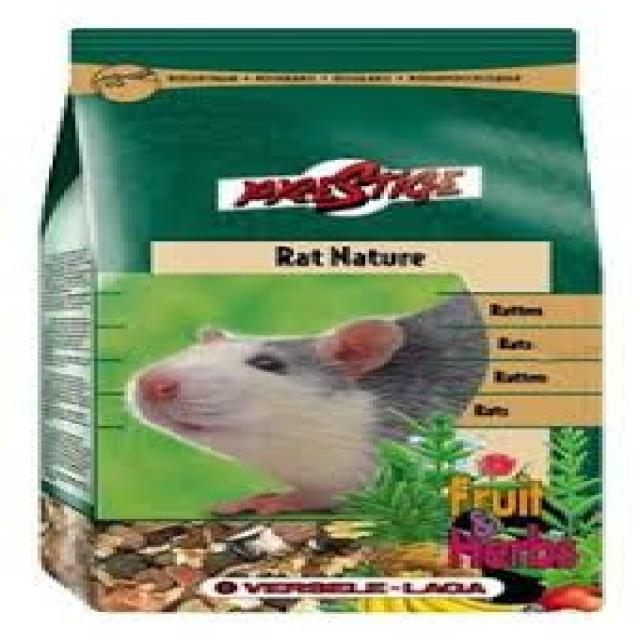rat: (120, 286, 490, 514)
